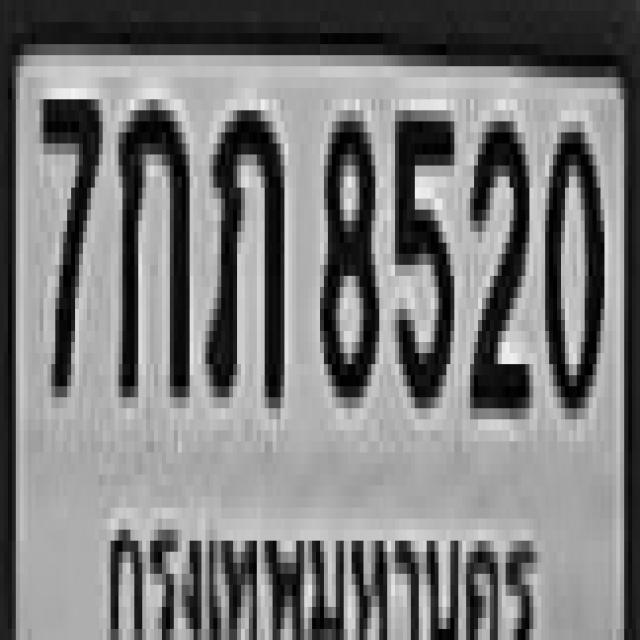0: (541, 110, 601, 408)
10GorGai: (114, 88, 186, 386)
2: (466, 110, 526, 408)
41PhorSamPhao: (202, 100, 280, 398)
5: (391, 100, 450, 398)
7: (39, 88, 99, 386)
8: (316, 100, 375, 386)
Bangkok: (90, 496, 549, 640)
